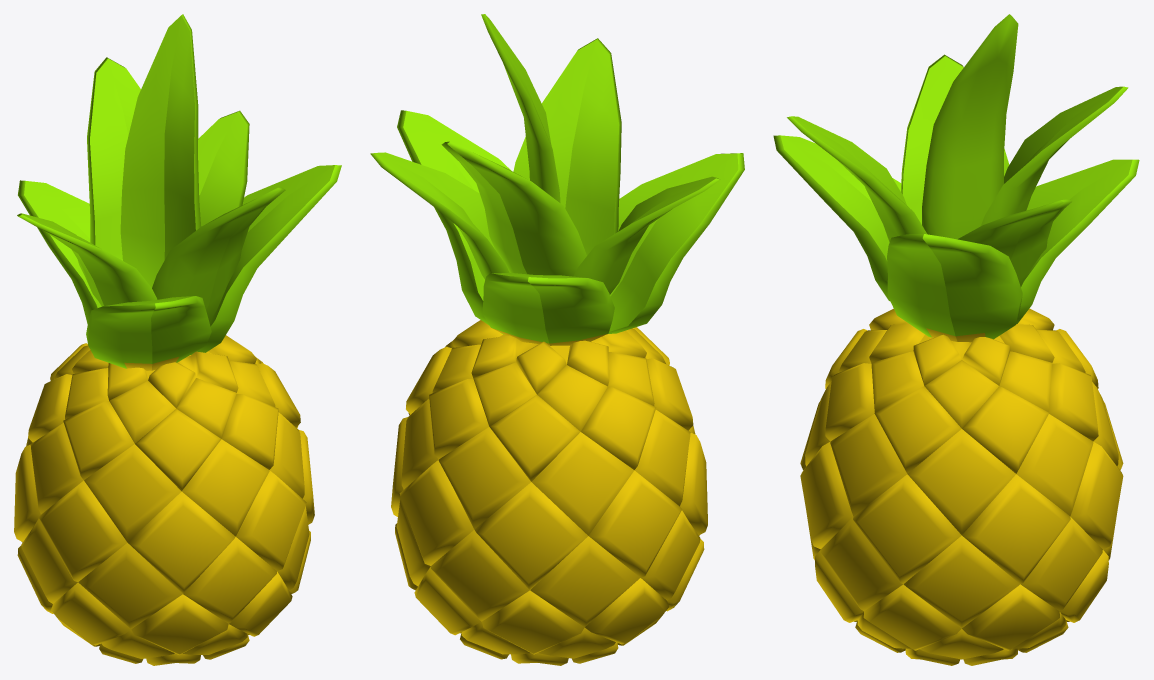
File: PineApple_Model.fbx
3 views of the same model, side by side, from view 1: azimuth 30°, elevation 25°; view 2: azimuth 150°, elevation 25°; view 3: azimuth 270°, elevation 25° (orthographic). The views are drawn at different scales.
Parts seen in each view (by area): view 1: Pineapple_V1_00; view 2: Pineapple_V1_00; view 3: Pineapple_V1_00.
Boxes of the visible parts, left/top/right/bottom form: Pineapple_V1_00: left=14, top=14, right=341, bottom=665; Pineapple_V1_00: left=370, top=14, right=744, bottom=665; Pineapple_V1_00: left=773, top=14, right=1139, bottom=665.
Size of the model in its own units: 53.04 by 97.62 by 49.86.
